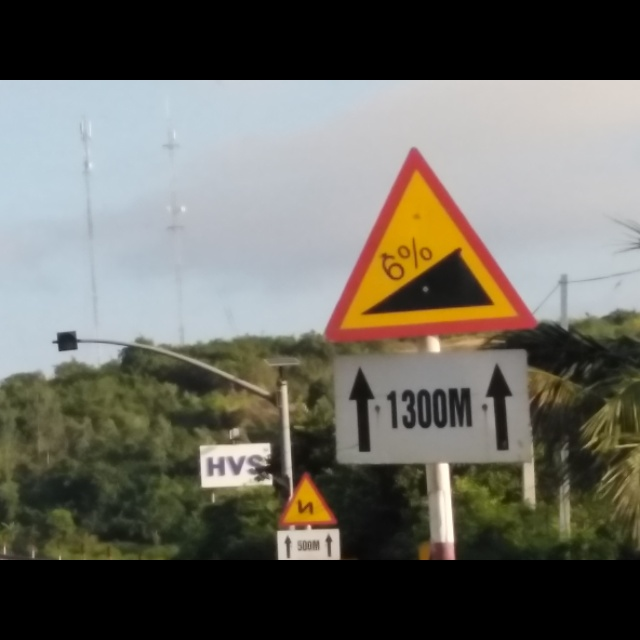Dốc lên nguy hiểm: (318, 147, 538, 345)
Ngoặt nguy hiểm liên tiếp bên phải: (276, 467, 335, 530)
